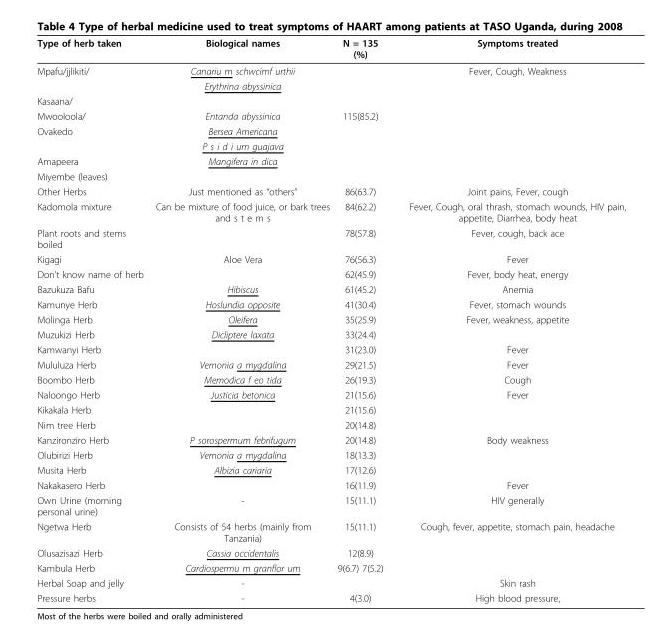table: (36, 36, 625, 603)
table column: (395, 36, 625, 603), (148, 36, 332, 603), (36, 36, 148, 603), (332, 36, 395, 603)
table column header: (36, 36, 625, 62)
table projected row header: (36, 93, 625, 108), (36, 168, 625, 183)
table row: (36, 198, 625, 225), (36, 518, 625, 545), (36, 36, 625, 62), (36, 225, 625, 251), (36, 492, 625, 518), (36, 62, 625, 78), (36, 401, 625, 417), (36, 78, 625, 93), (36, 93, 625, 108), (36, 108, 625, 123), (36, 123, 625, 138), (36, 138, 625, 153), (36, 153, 625, 168), (36, 168, 625, 183), (36, 183, 625, 198), (36, 251, 625, 266), (36, 266, 625, 281), (36, 281, 625, 296), (36, 296, 625, 311), (36, 311, 625, 326), (36, 326, 625, 341), (36, 341, 625, 356), (36, 356, 625, 371), (36, 371, 625, 386), (36, 386, 625, 401), (36, 417, 625, 432), (36, 432, 625, 447), (36, 447, 625, 462), (36, 462, 625, 477), (36, 477, 625, 492), (36, 545, 625, 560), (36, 560, 625, 575), (36, 575, 625, 590), (36, 590, 625, 603)
table spanning cell: (36, 62, 148, 93), (36, 123, 148, 153)
